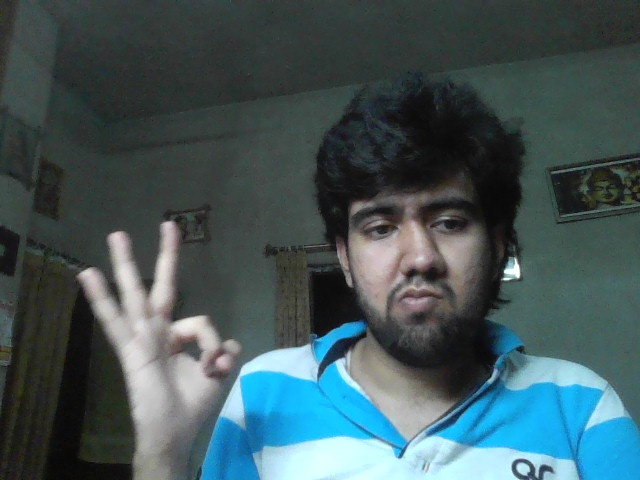Nice: (77, 220, 241, 452)
